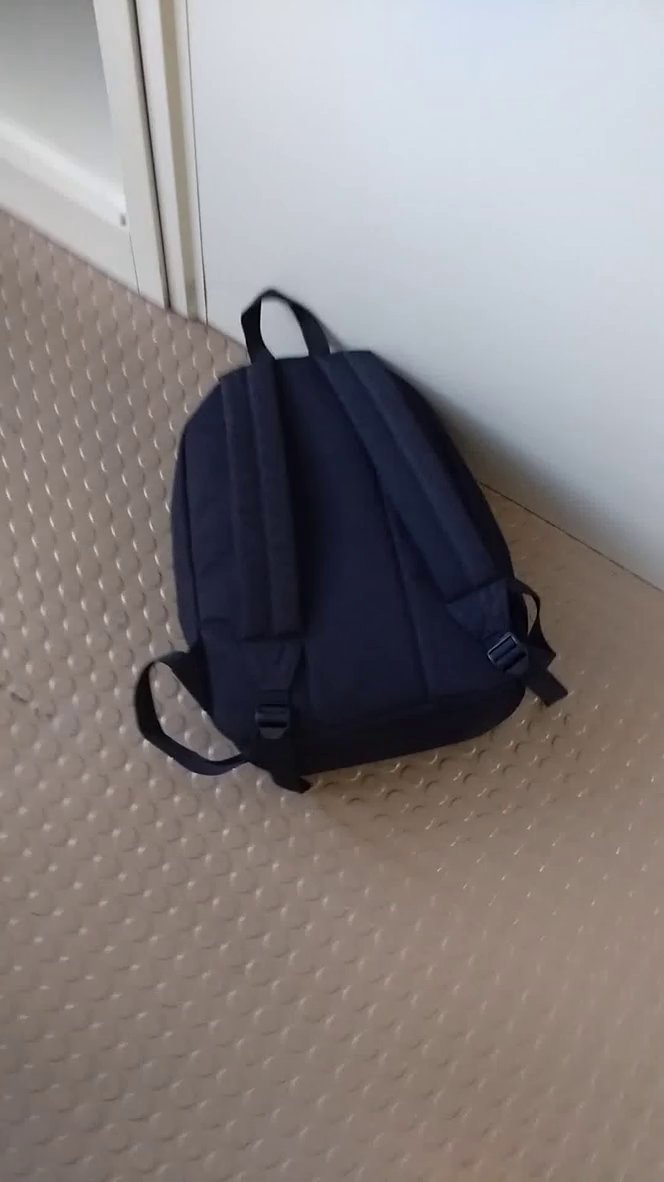bag: (127, 273, 592, 824)
